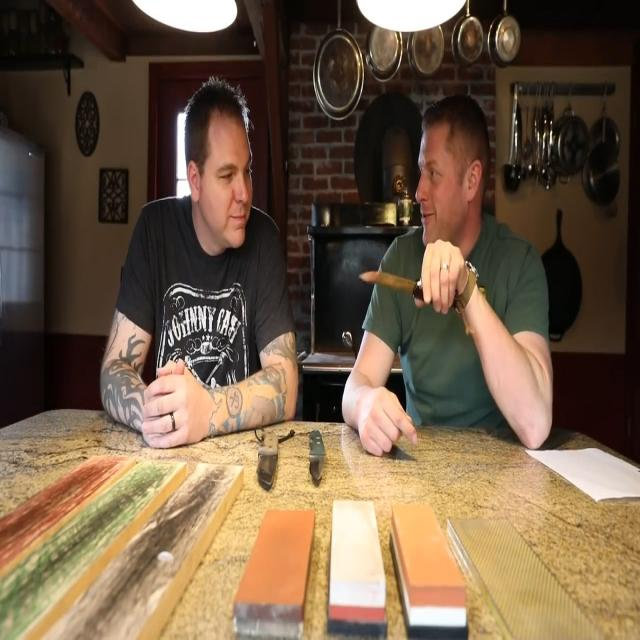knife: (358, 263, 422, 308), (257, 425, 283, 495), (306, 423, 328, 495)
